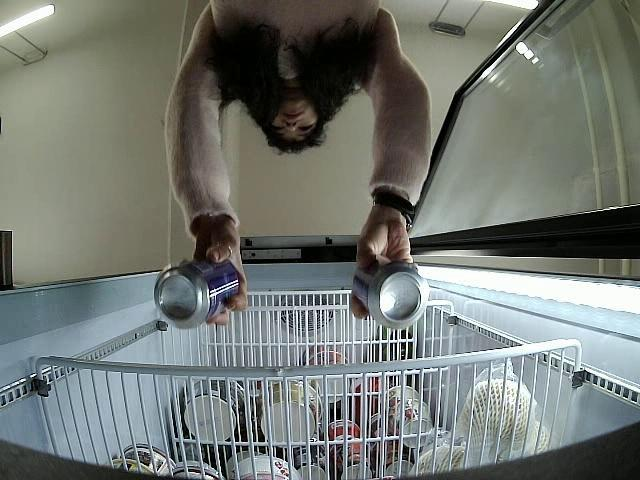14_welchsGrape: (154, 258, 250, 326), (352, 260, 428, 330)
